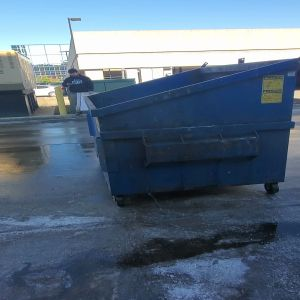Dumpster: (84, 57, 300, 209)
Person: (63, 67, 93, 91)
